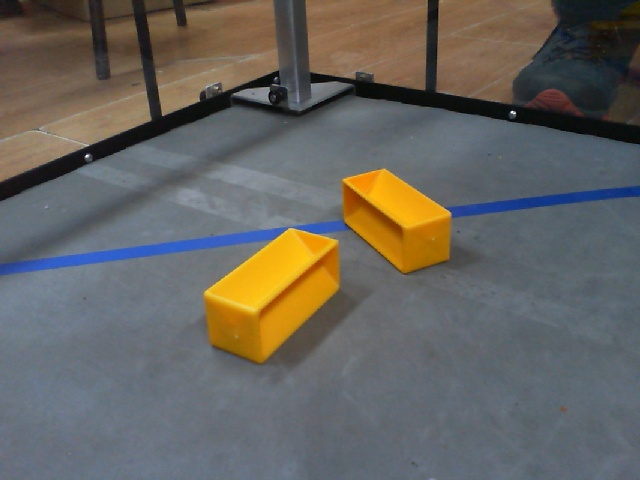YellowSample: (199, 223, 344, 366), (338, 160, 456, 286)
